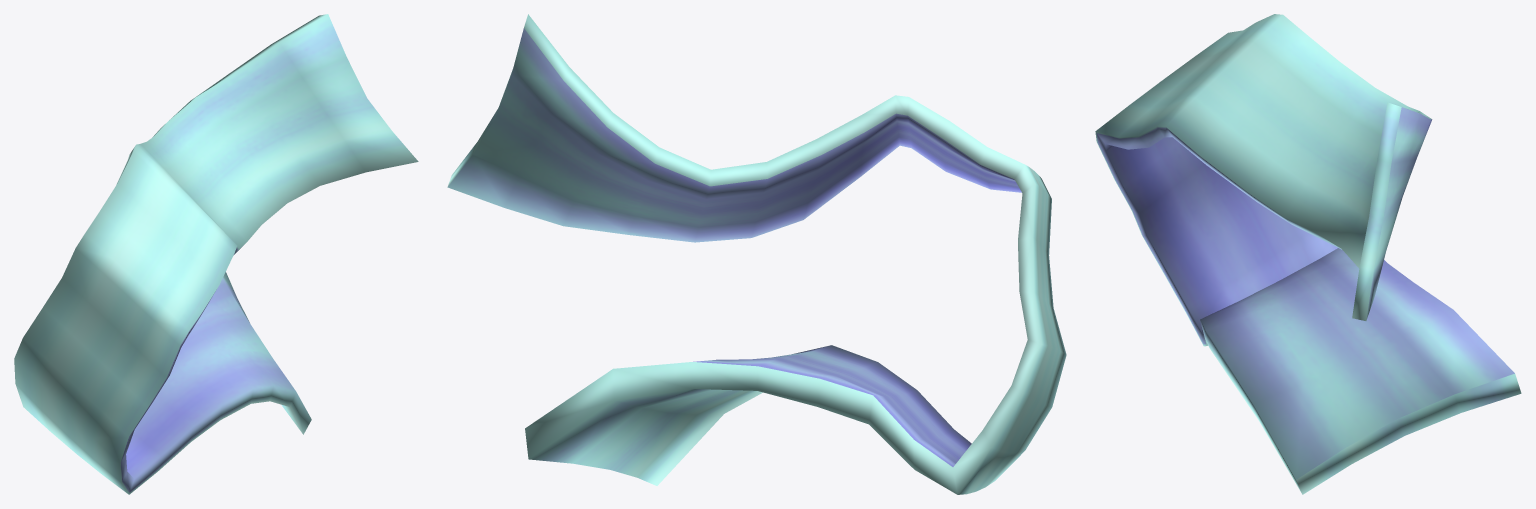
Rendered from M31_robe01.fbx.
The picture shows the model from 3 angles, left to right: view 1: azimuth 30°, elevation 25°; view 2: azimuth 150°, elevation 25°; view 3: azimuth 270°, elevation 25°; orthographic projection. The views are drawn at different scales.
Visible parts, largest first — view 1: M31_robe01_model; view 2: M31_robe01_model; view 3: M31_robe01_model.
Boxes of the visible parts, x1,y1,x2,y2 form: M31_robe01_model: (14, 14, 418, 494); M31_robe01_model: (447, 14, 1066, 494); M31_robe01_model: (1095, 14, 1521, 494).
Bounding box in the file's own units: 28.44 × 24.1 × 21.8.
